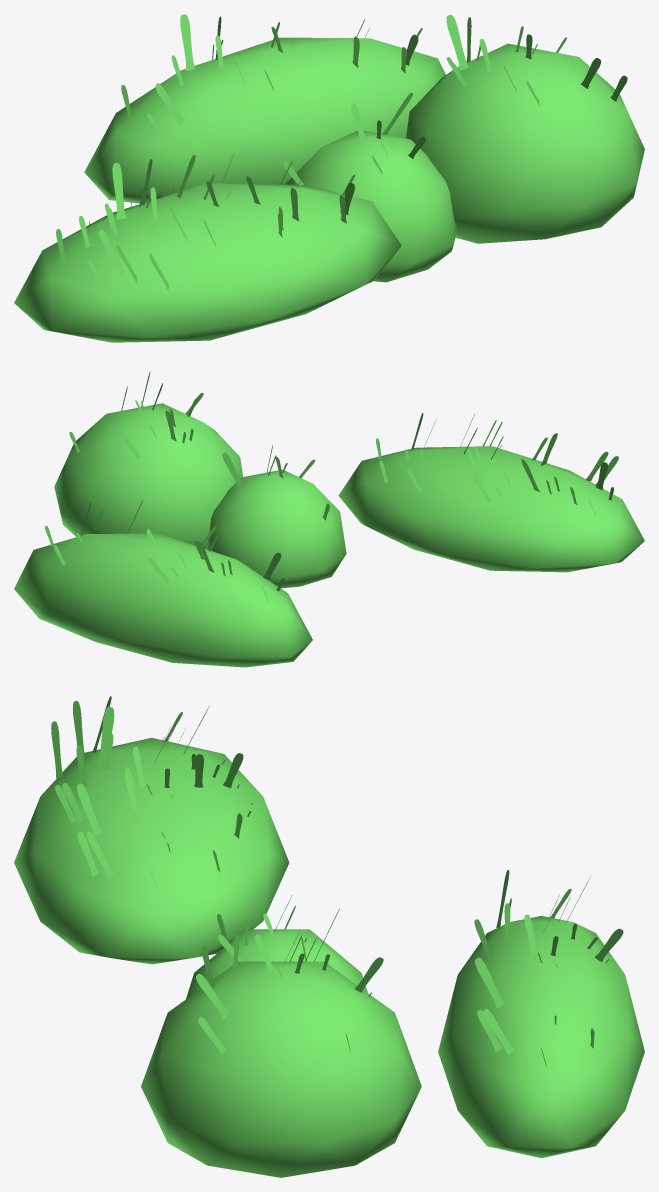
File: bushes.fbx
3 renders of one model, top to bottom at view 1: azimuth 30°, elevation 25°; view 2: azimuth 150°, elevation 25°; view 3: azimuth 270°, elevation 25°, orthographic. The views are drawn at different scales.
Parts seen in each view (by area): view 1: Bushery.002, Bushery, Bushery.003; view 2: Bushery.002, Bushery, Bushery.003; view 3: Bushery.002, Bushery, Bushery.003.
Boxes of the visible parts, x1,y1,x2,y2 form: Bushery.002: (283, 14, 644, 282); Bushery: (14, 154, 401, 342); Bushery.003: (84, 14, 445, 203); Bushery.002: (54, 372, 346, 588); Bushery: (338, 413, 644, 572); Bushery.003: (14, 500, 312, 667); Bushery.002: (141, 895, 421, 1177); Bushery: (14, 696, 289, 964); Bushery.003: (438, 870, 644, 1158).
Bounding box in the file's own units: 596 × 170 × 449.
